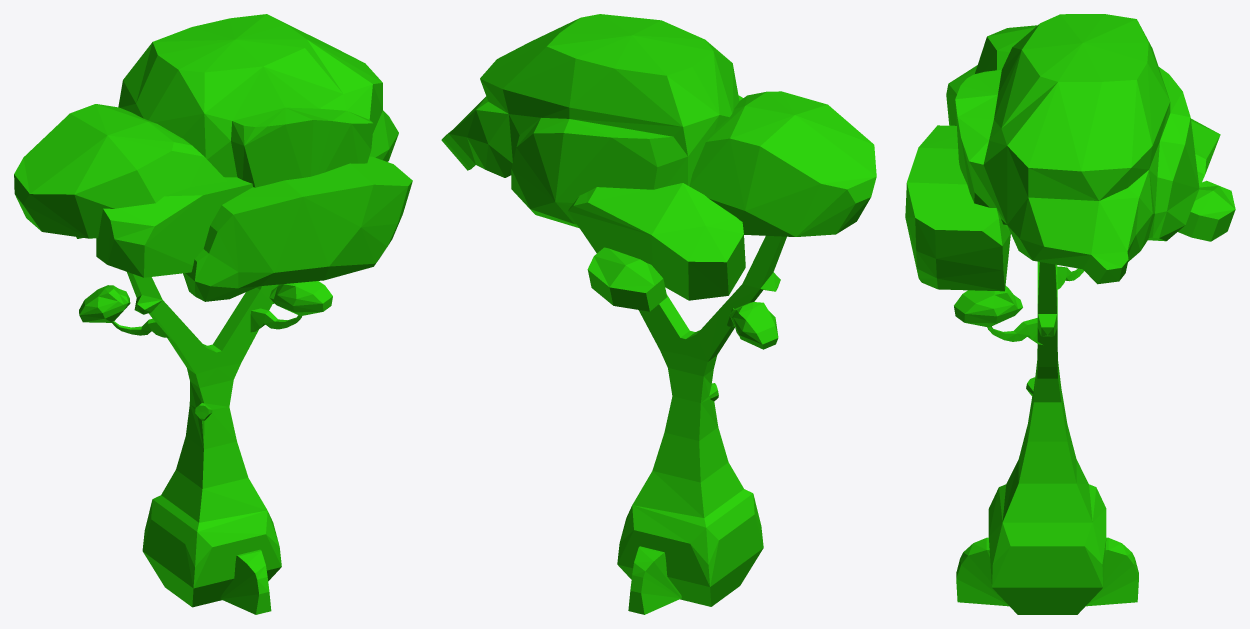
Rendered from shu6.FBX.
The picture shows the model from 3 angles, left to right: view 1: azimuth 30°, elevation 25°; view 2: azimuth 150°, elevation 25°; view 3: azimuth 270°, elevation 25°; orthographic projection. The views are drawn at different scales.
Parts seen in each view (by area): view 1: 对象1113, FOL_Foliage_02; view 2: 对象1113, FOL_Foliage_02; view 3: 对象1113, FOL_Foliage_02.
Boxes of the visible parts, <box> form: 对象1113: <box>14,14,412,322</box>; FOL_Foliage_02: <box>111,272,301,614</box>; 对象1113: <box>441,14,876,349</box>; FOL_Foliage_02: <box>617,236,786,614</box>; 对象1113: <box>905,14,1235,327</box>; FOL_Foliage_02: <box>956,261,1138,614</box>.
Size of the model in its own units: 1114 by 1456 by 758.
